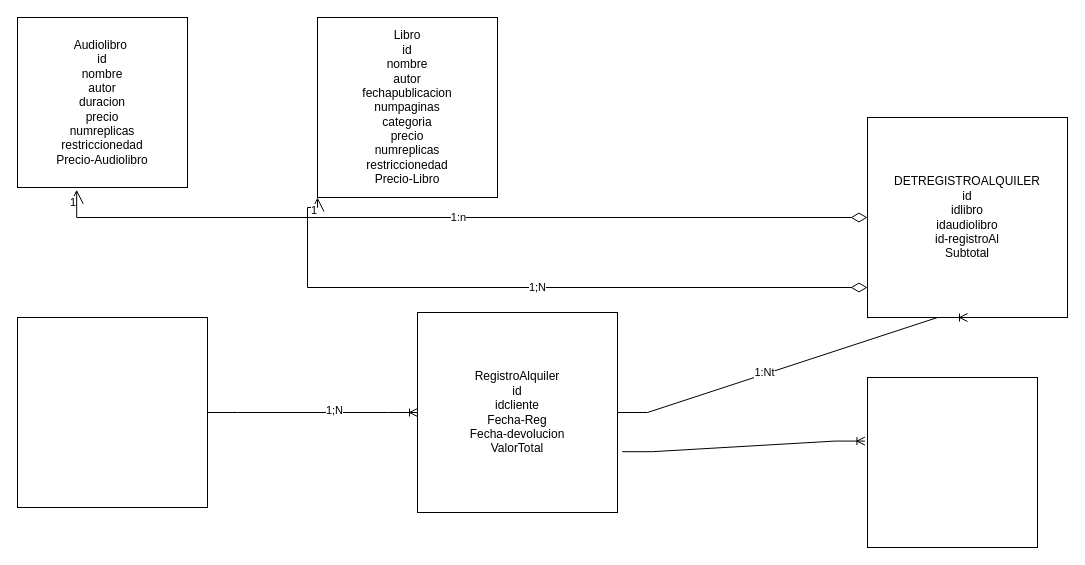
Some shapes in this 1085 by 565 pixel diagram are drawn without their labels. Each missing label, with the centre of its shape:
"Cliente id Nombre Apellidos numcedula Edad" goes at [112,412].
"PAGO id IdRegistroAl Estado" goes at [952,462].
